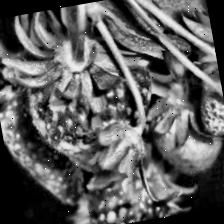Powdery Mildew Fruit: (15, 22, 165, 183), (0, 41, 99, 215), (78, 158, 171, 224), (184, 27, 224, 140)
